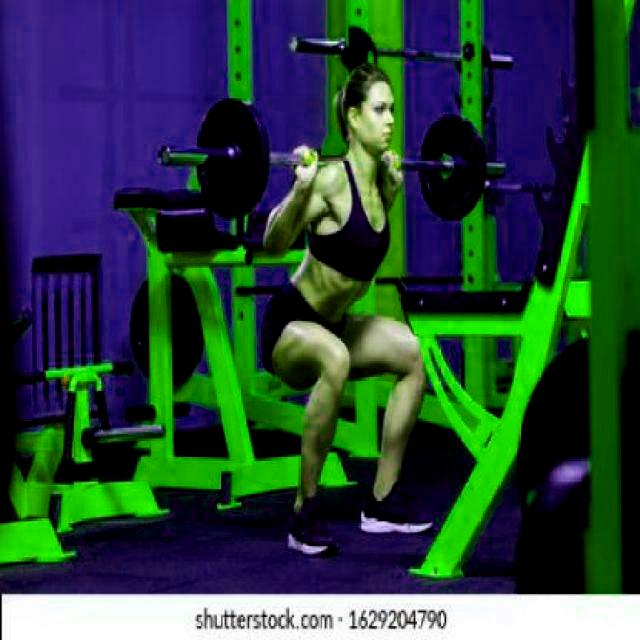barbell: (155, 95, 267, 223)
